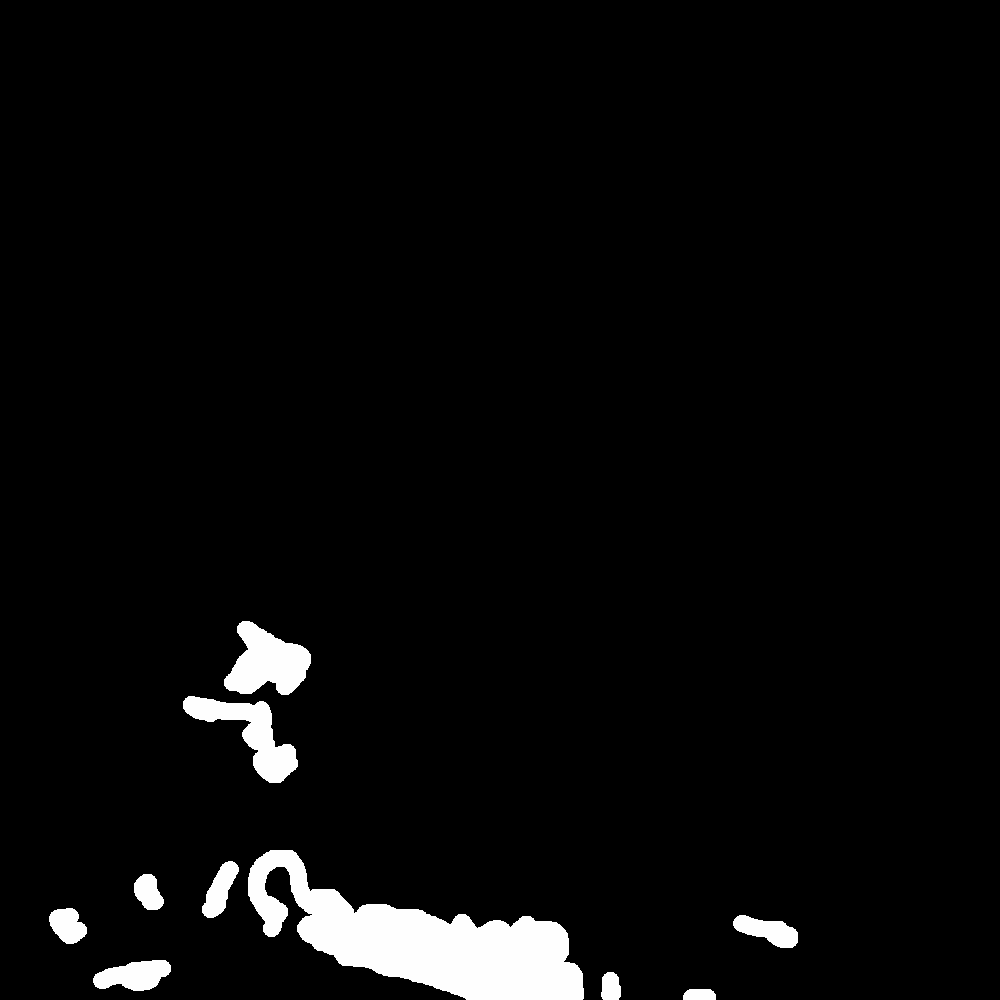illegal: (253, 851, 593, 1000), (177, 619, 312, 780), (58, 819, 193, 946), (206, 854, 240, 912), (126, 954, 175, 988), (767, 920, 789, 945), (605, 970, 623, 1000)
